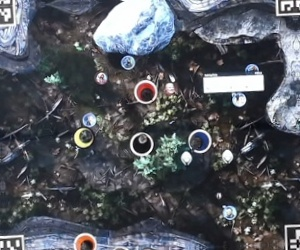black: (129, 131, 153, 155)
blue: (188, 127, 212, 151)
lime_green_violet: (67, 125, 91, 149)
orange: (71, 229, 99, 250)
red: (132, 80, 156, 104)
